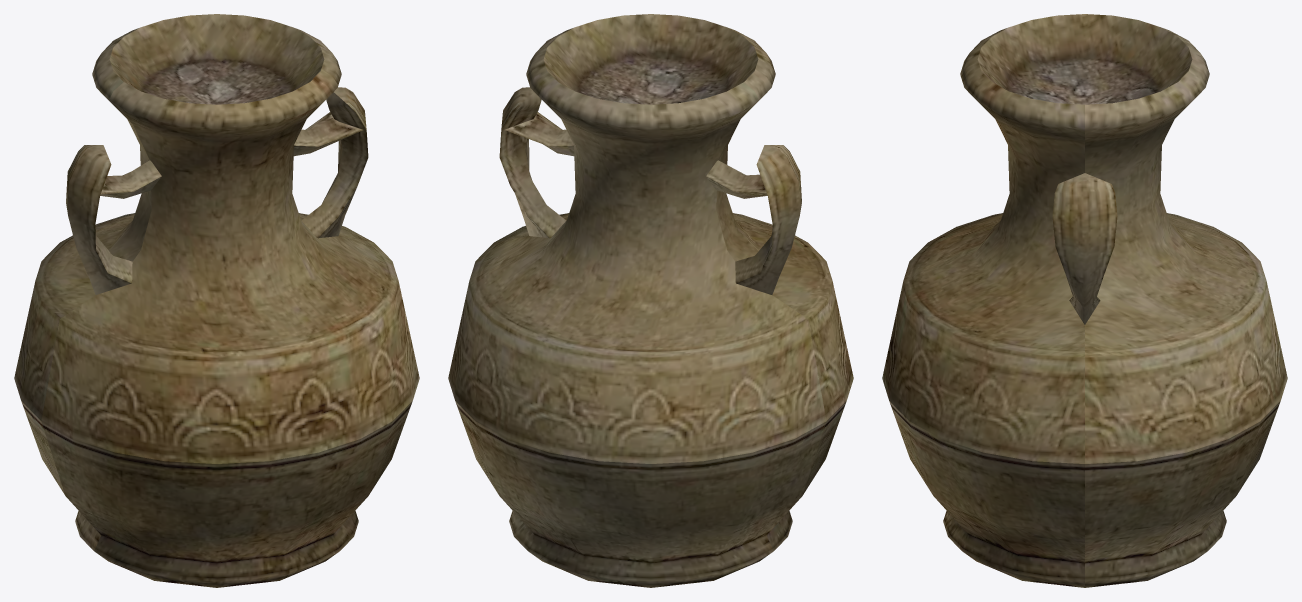
The model's file is eso_gu1_Pottery7-transformed.glb.
3 views of the same model, side by side, from view 1: azimuth 30°, elevation 25°; view 2: azimuth 150°, elevation 25°; view 3: azimuth 270°, elevation 25° (orthographic).
Parts seen in each view (by area): view 1: default; view 2: default; view 3: default.
Part boxes in pixels (x1,y1,x2,y2): default: (14,14,419,587); default: (448,14,853,587); default: (882,14,1287,587).
Bounding box in the file's own units: 0.9619 × 1.24 × 0.9619.
1 material, 1 textured.
